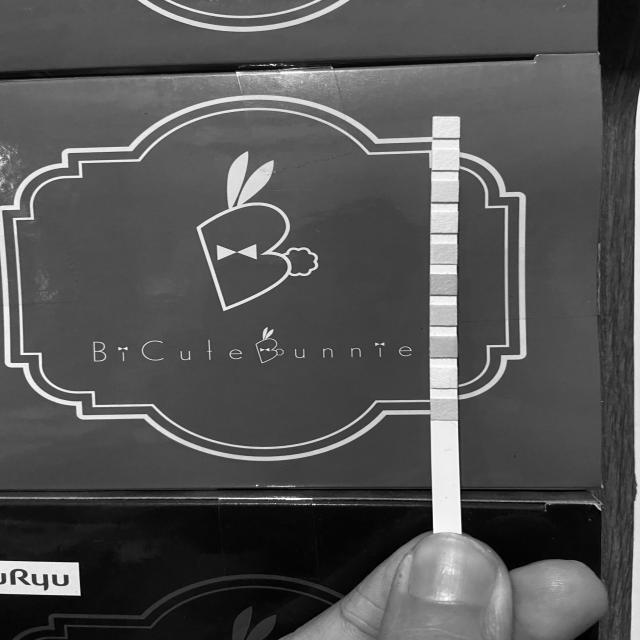Bilirubin: (432, 369, 456, 387)
Blood: (431, 275, 456, 294)
Glucose: (432, 399, 458, 419)
Ketone: (431, 337, 456, 356)
Leukocytes: (434, 118, 458, 137)
Nitrite: (433, 150, 458, 170)
Protein: (432, 213, 457, 233)
SpGravity: (431, 306, 456, 325)
Urobilinogen: (432, 182, 458, 202)
background: (0, 0, 640, 640)
pH: (432, 244, 456, 264)
strip: (429, 117, 462, 532)
